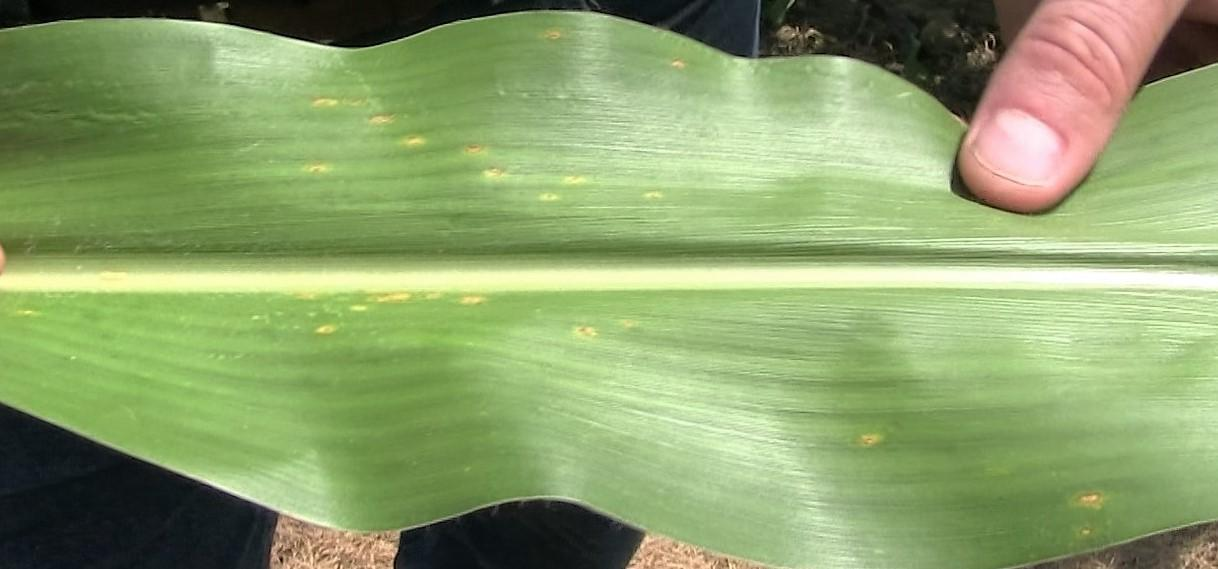Corn_Common_Rust: (293, 274, 509, 339), (459, 162, 676, 211), (561, 308, 640, 360), (1073, 477, 1123, 538), (453, 123, 528, 150), (304, 73, 354, 113), (361, 96, 408, 134), (839, 425, 891, 459), (394, 134, 446, 163), (650, 51, 706, 76), (534, 15, 572, 47), (296, 148, 327, 179), (11, 299, 38, 328)
